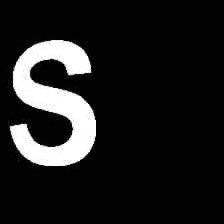LTR_S: (3, 36, 102, 169)
